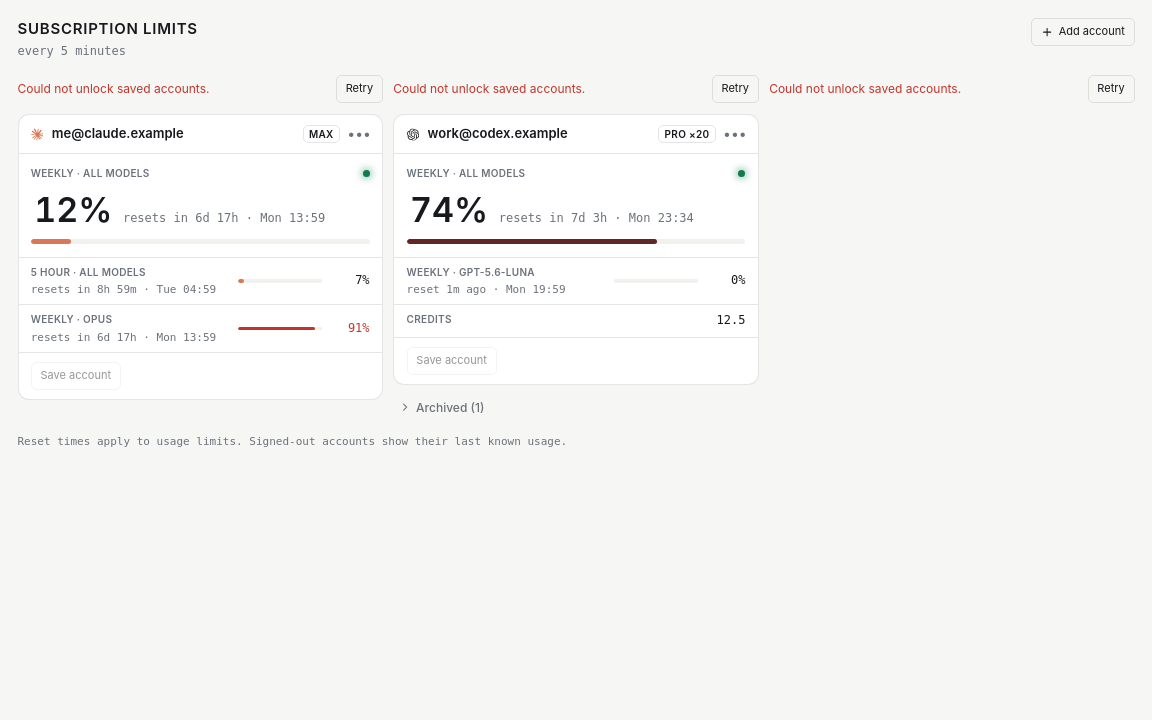
Test: archiving › keeps an archived row's actions disabled while the account list is failed
Click the button "Archived (1)" at [441, 407], box [393, 395, 490, 420]
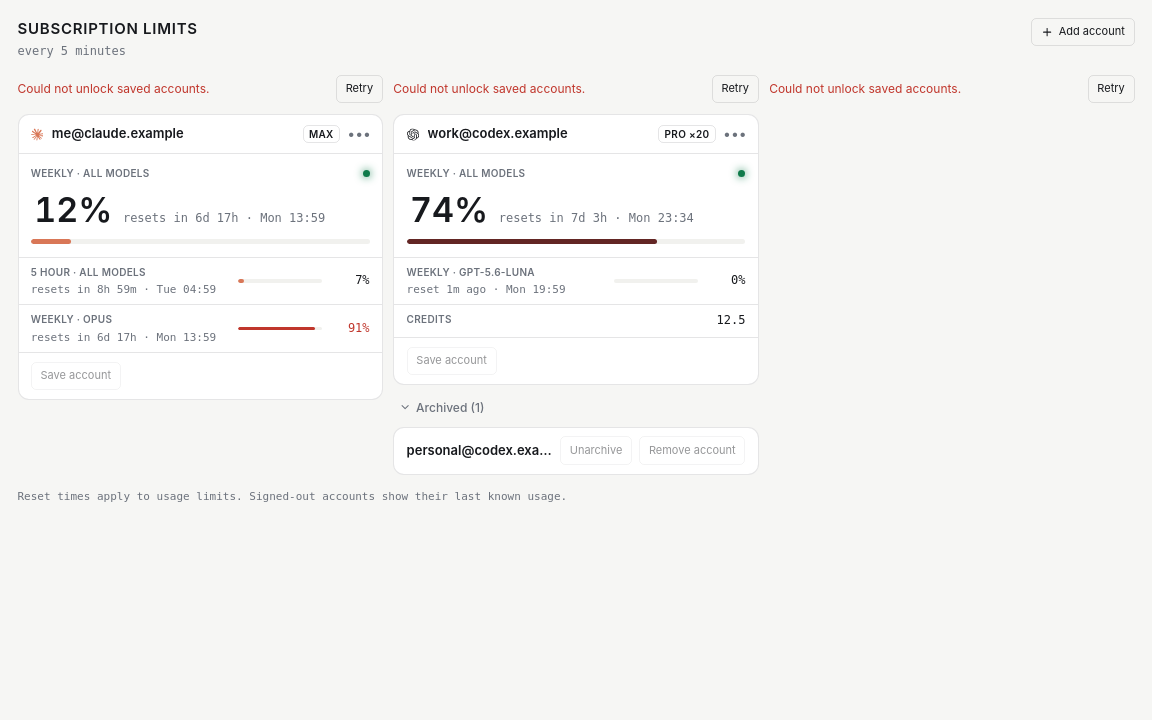
Expected: the 1st text "Could not unlock saved accounts." is shown, [18, 81, 209, 96]
Expected: the button with aria-label "Unarchive personal@codex.example" is disabled, [560, 436, 632, 465]
Expected: the button with aria-label "Remove account personal@codex.example" is disabled, [639, 436, 745, 465]
